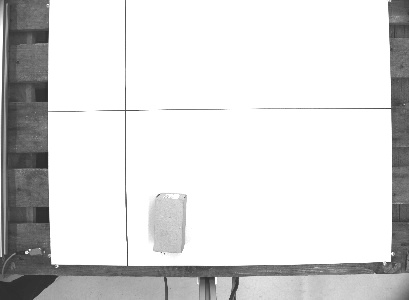b2: (149, 191, 189, 254)
